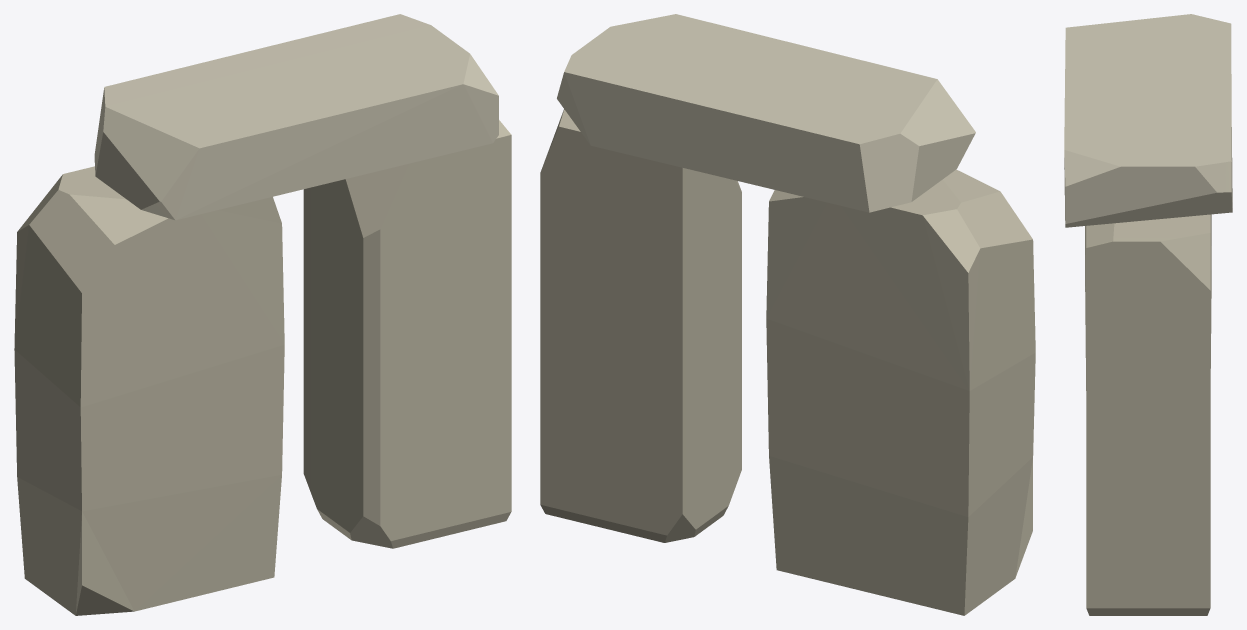
The model's file is Stonehenge_04.fbx.
3 renders of one model, left to right at view 1: azimuth 30°, elevation 25°; view 2: azimuth 150°, elevation 25°; view 3: azimuth 270°, elevation 25°, orthographic. The views are drawn at different scales.
Visible parts, largest first — view 1: Stonehenge_04; view 2: Stonehenge_04; view 3: Stonehenge_04.
Boxes of the visible parts, x1=… form: Stonehenge_04: x1=14, y1=14, x2=511, y2=615; Stonehenge_04: x1=540, y1=14, x2=1035, y2=615; Stonehenge_04: x1=1064, y1=14, x2=1232, y2=615.
Bounding box in the file's own units: 402 × 409 × 142.
